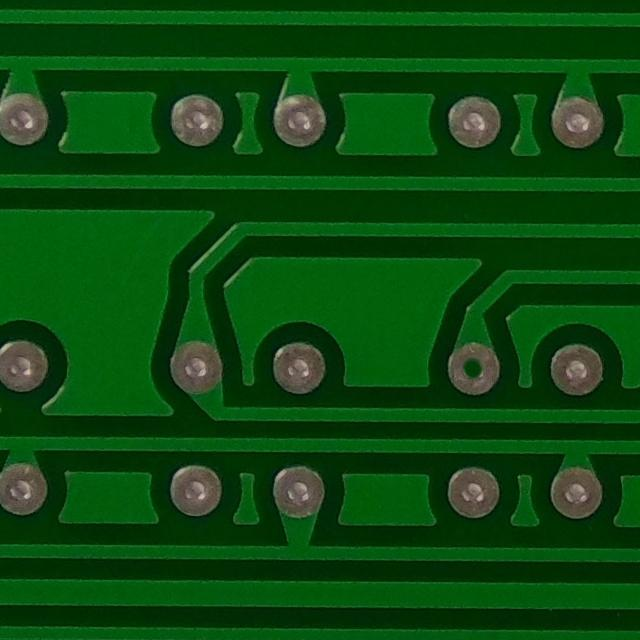missing_hole: (440, 335, 507, 404)
